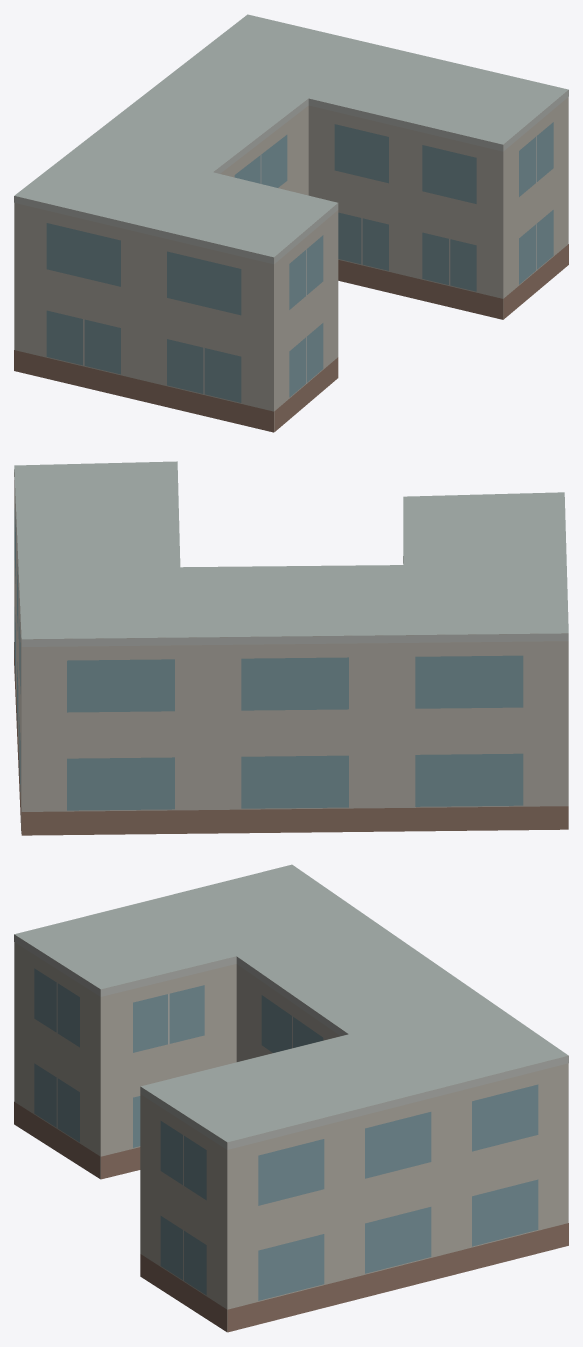
Rendered from survey-upis-32763355.glb.
3 renders of one model, top to bottom at view 1: azimuth 30°, elevation 25°; view 2: azimuth 150°, elevation 25°; view 3: azimuth 270°, elevation 25°, orthographic. The views are drawn at different scales.
Parts seen in each view (by area): view 1: survey-upis-32763355.tmp; view 2: survey-upis-32763355.tmp; view 3: survey-upis-32763355.tmp.
Part boxes in pixels (left/top/right/bottom): survey-upis-32763355.tmp: left=14, top=14, right=568, bottom=432; survey-upis-32763355.tmp: left=14, top=461, right=568, bottom=835; survey-upis-32763355.tmp: left=14, top=864, right=568, bottom=1332.
Bounding box in the file's own units: 19.14 × 6.1 × 16.15.
